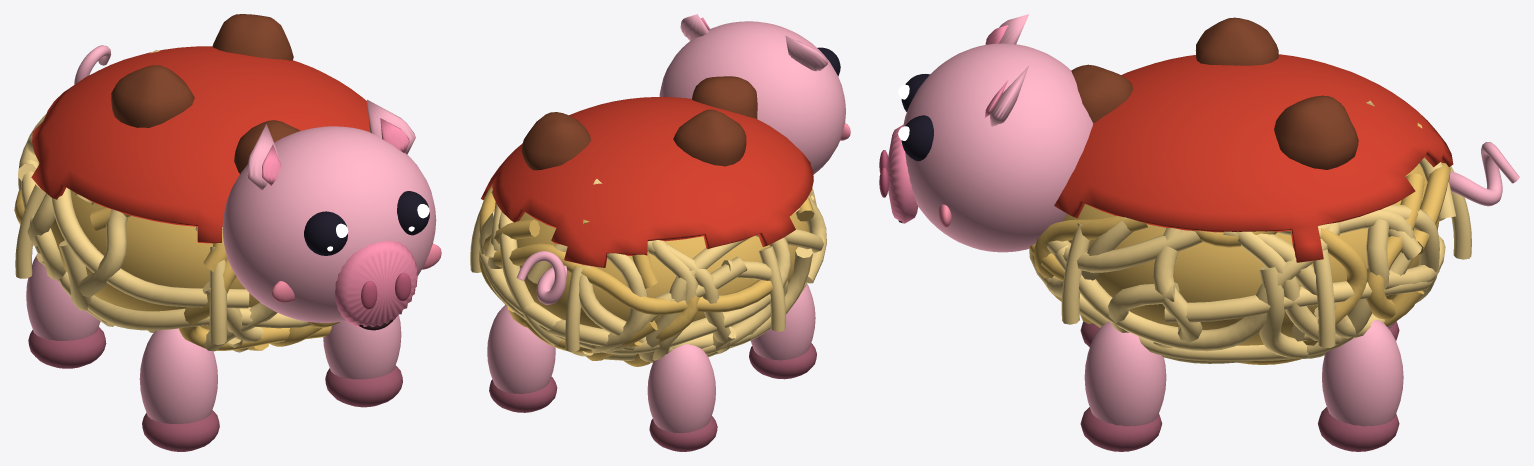
Rendered from pilot_gris_spagetti.glb.
The picture shows the model from 3 angles, left to right: view 1: azimuth 30°, elevation 25°; view 2: azimuth 150°, elevation 25°; view 3: azimuth 270°, elevation 25°; orthographic projection. The views are drawn at different scales.
Parts seen in each view (by area): view 1: kropp, hode, bein_vf, bein_hf, bein_vb, hale; view 2: kropp, hode, bein_vb, bein_hb, bein_vf, hale; view 3: kropp, hode, bein_hb, bein_hf, hale.
Boxes of the visible parts, <box> form: kropp: <box>14,14,417,352</box>; hode: <box>222,99,441,330</box>; bein_vf: <box>139,328,219,451</box>; bein_hf: <box>323,315,402,407</box>; bein_vb: <box>26,255,106,368</box>; hale: <box>74,45,111,84</box>; kropp: <box>470,76,826,366</box>; hode: <box>659,14,850,174</box>; bein_vb: <box>647,344,717,451</box>; bein_hb: <box>487,305,557,412</box>; bein_vf: <box>749,283,816,379</box>; hale: <box>516,251,566,304</box>; kropp: <box>1028,17,1471,364</box>; hode: <box>879,14,1093,252</box>; bein_hb: <box>1318,320,1403,451</box>; bein_hf: <box>1080,321,1166,451</box>; hale: <box>1448,142,1519,206</box>.
Bounding box in the file's own units: 1.01 × 0.9708 × 1.57.
